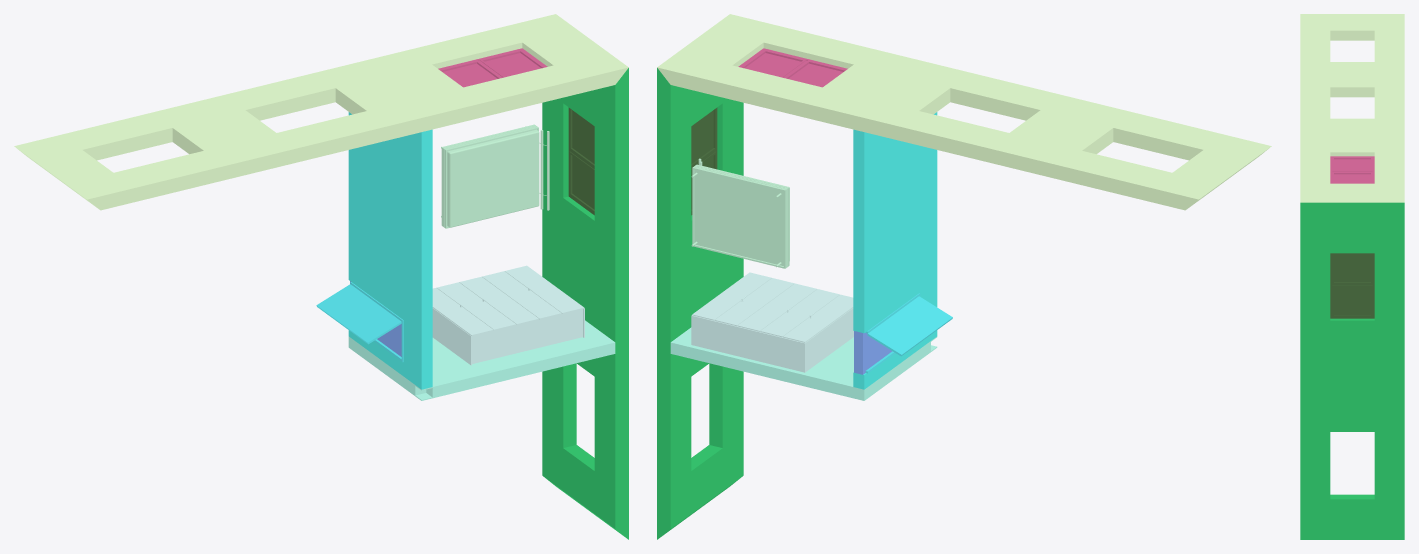
The model's file is space3.gltf.
3 views of the same model, side by side, from view 1: azimuth 30°, elevation 25°; view 2: azimuth 150°, elevation 25°; view 3: azimuth 270°, elevation 25° (orthographic). The views are drawn at different scales.
Bounding box in the file's own units: 600 × 500 × 140.
